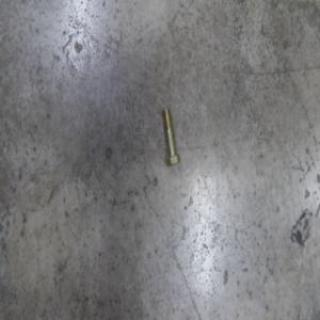Bolttrack_idkeyframe: (160, 106, 179, 168)
